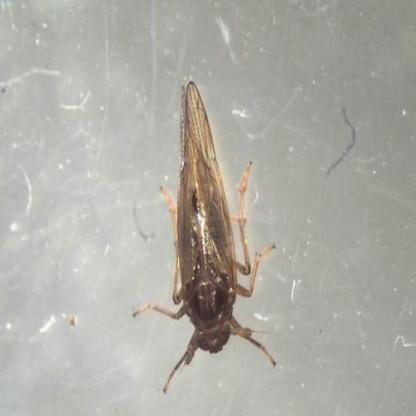brown-planthopper: (158, 76, 280, 378)
